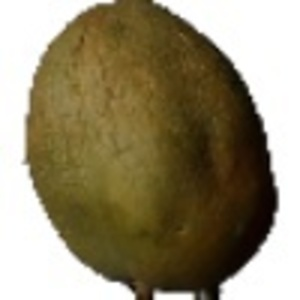mamão: (18, 2, 279, 293)
